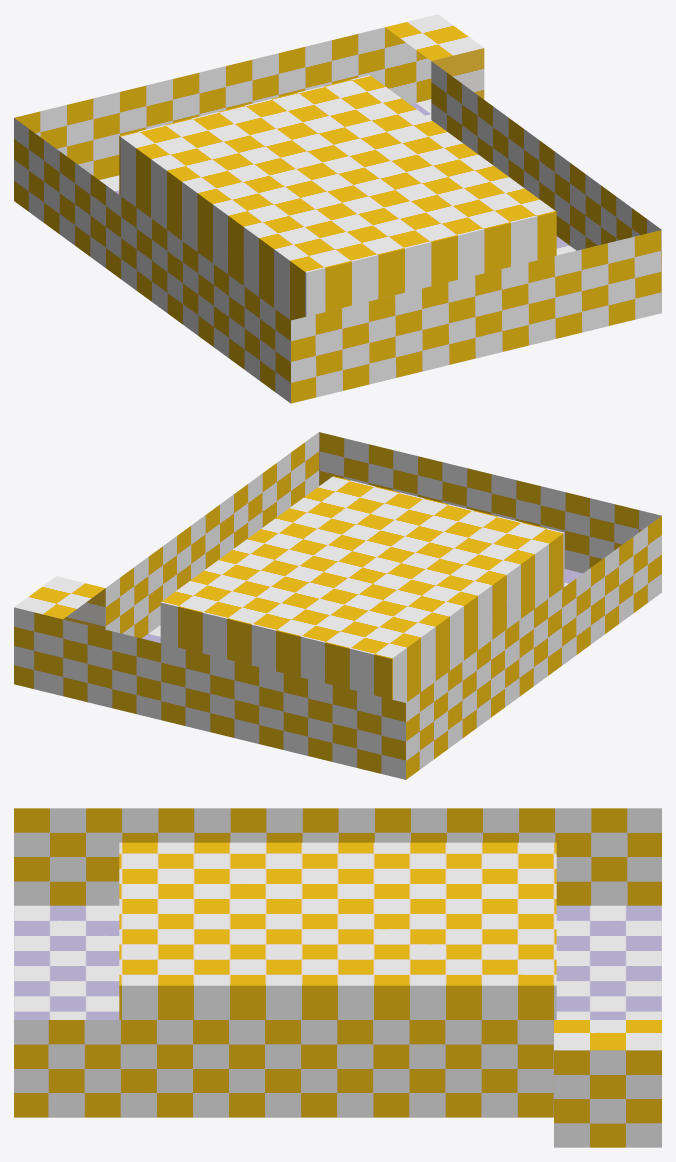
File: testlvl_c.fbx
3 renders of one model, top to bottom at view 1: azimuth 30°, elevation 25°; view 2: azimuth 150°, elevation 25°; view 3: azimuth 270°, elevation 25°, orthographic. The views are drawn at different scales.
Visible parts, largest first — view 1: Plane; view 2: Plane; view 3: Plane.
Part boxes in pixels (x1,y1,x2,y2): Plane: (14,14,661,403); Plane: (14,432,661,779); Plane: (14,808,661,1147).
Size of the model in its own units: 1600 by 300 by 1809.
2 materials, 2 textured.
